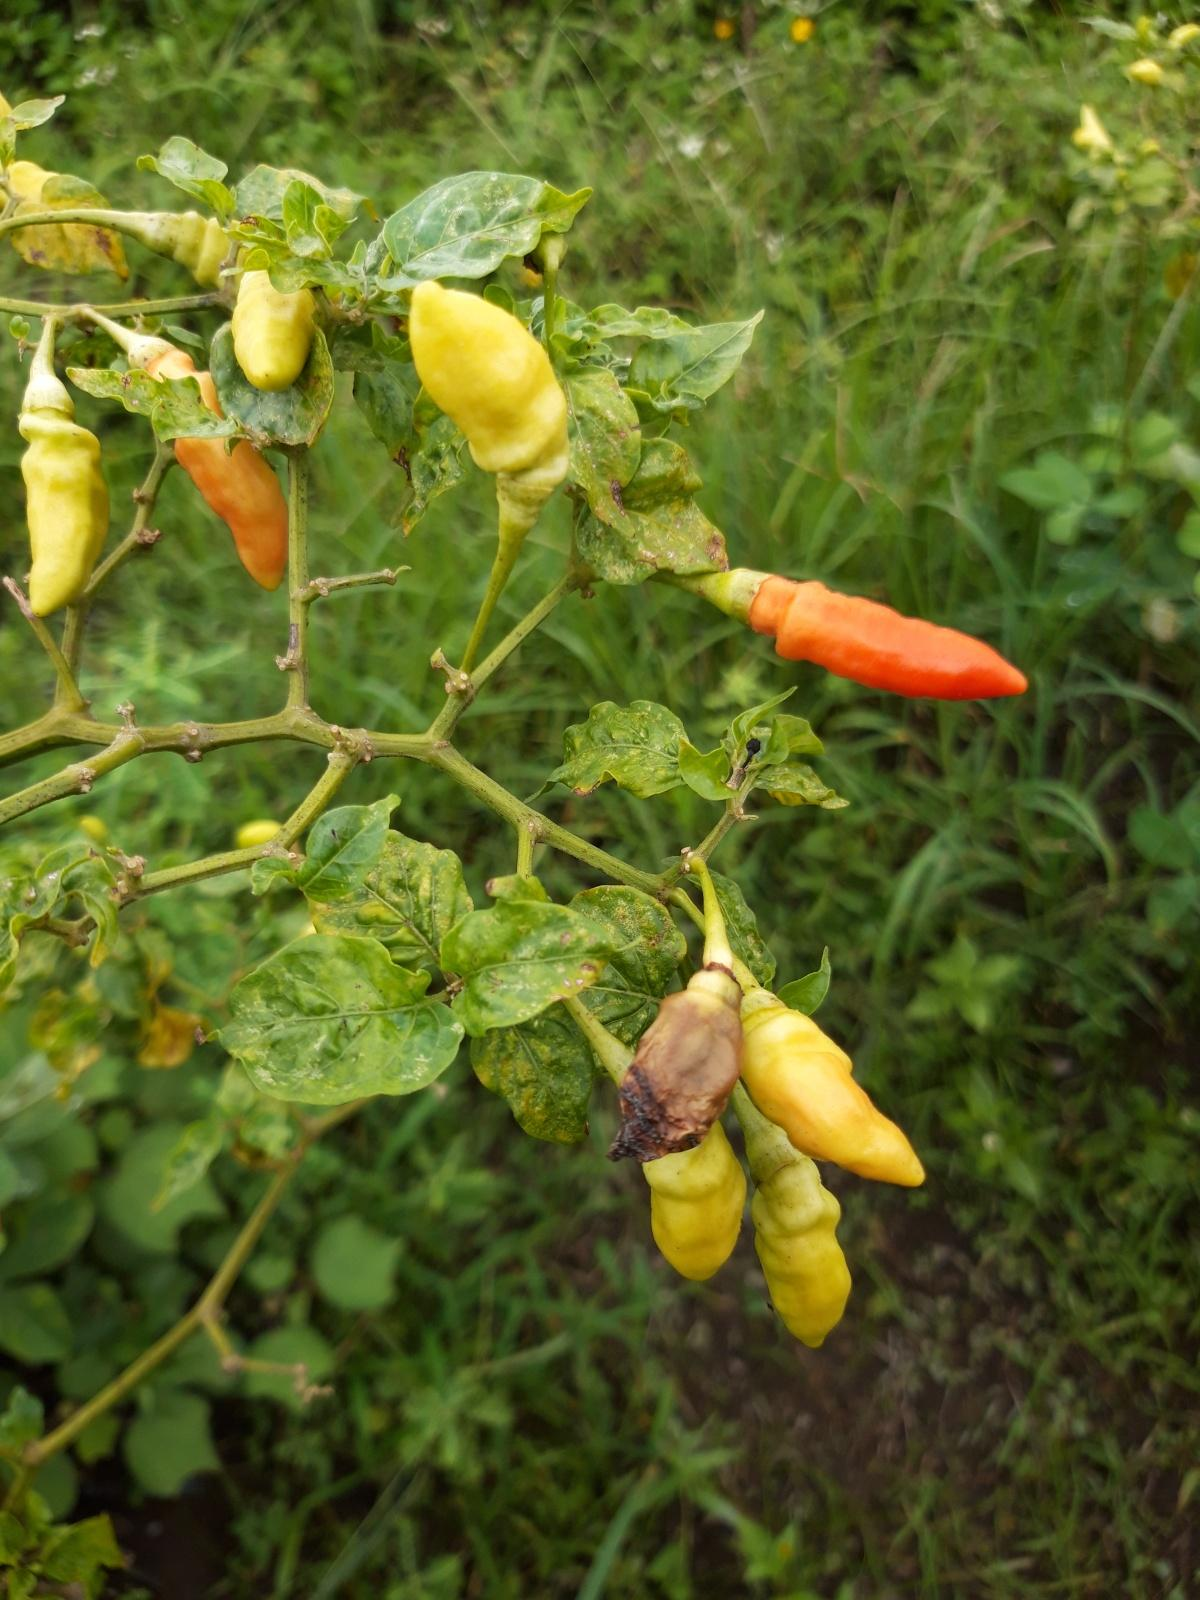antraknosa: (601, 976, 745, 1164)
cabai_normal: (739, 993, 926, 1188), (142, 348, 289, 592), (753, 574, 1026, 702), (408, 282, 568, 488), (168, 209, 308, 391), (751, 1141, 853, 1349), (20, 396, 110, 616), (638, 1159, 746, 1283)
